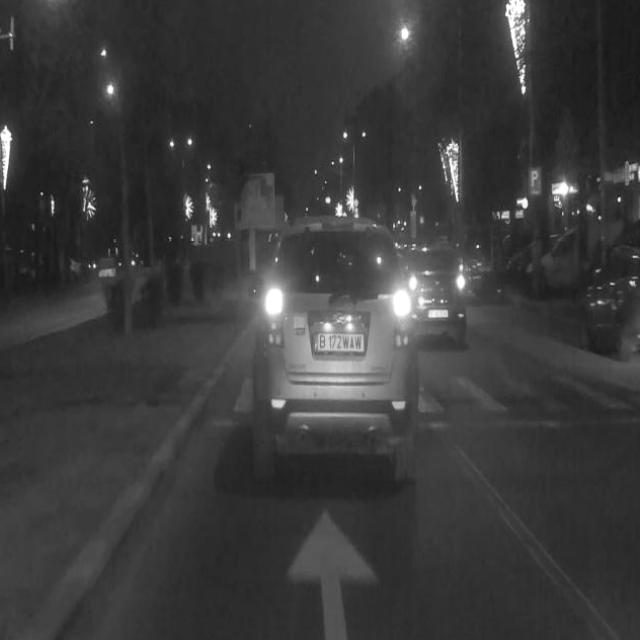licenseplate: (311, 329, 365, 355)
